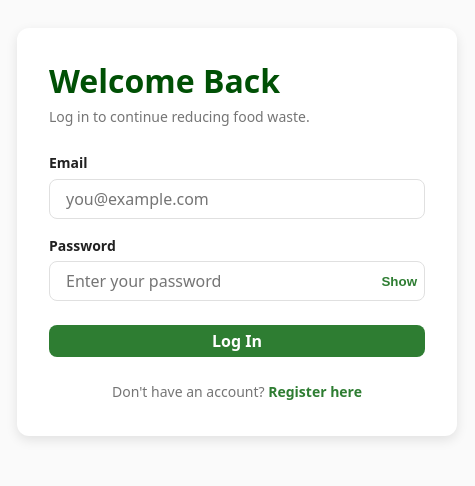
Test: login validation › rejects an invalid email and short password
The width and height of the screenshot is (475, 486).
In the field labelled "Email": (237, 199) [49, 179, 425, 219], type "invalid-email"
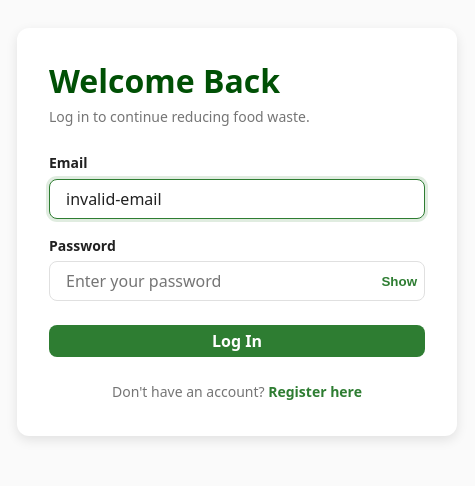
In the password field labelled "Password": (237, 281) [49, 261, 425, 301], type "short"
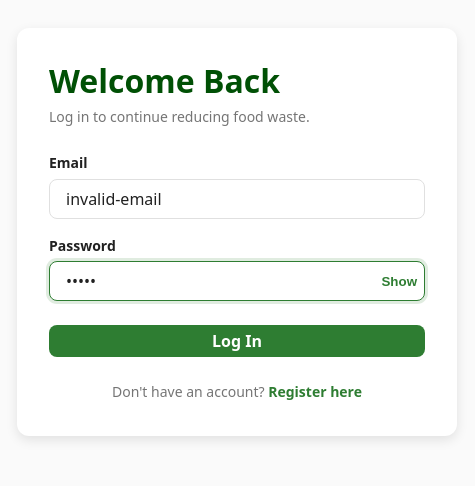
Click the button "Log In": (237, 341) [49, 325, 425, 357]
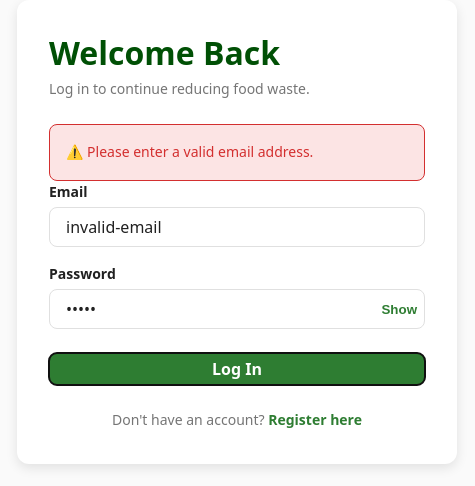
Check: the message shows "enter a valid email address", box [87, 142, 313, 161]
